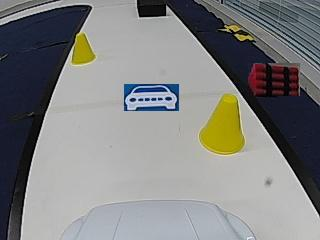block: (137, 1, 166, 17)
cone: (199, 93, 247, 155), (70, 34, 98, 65)
